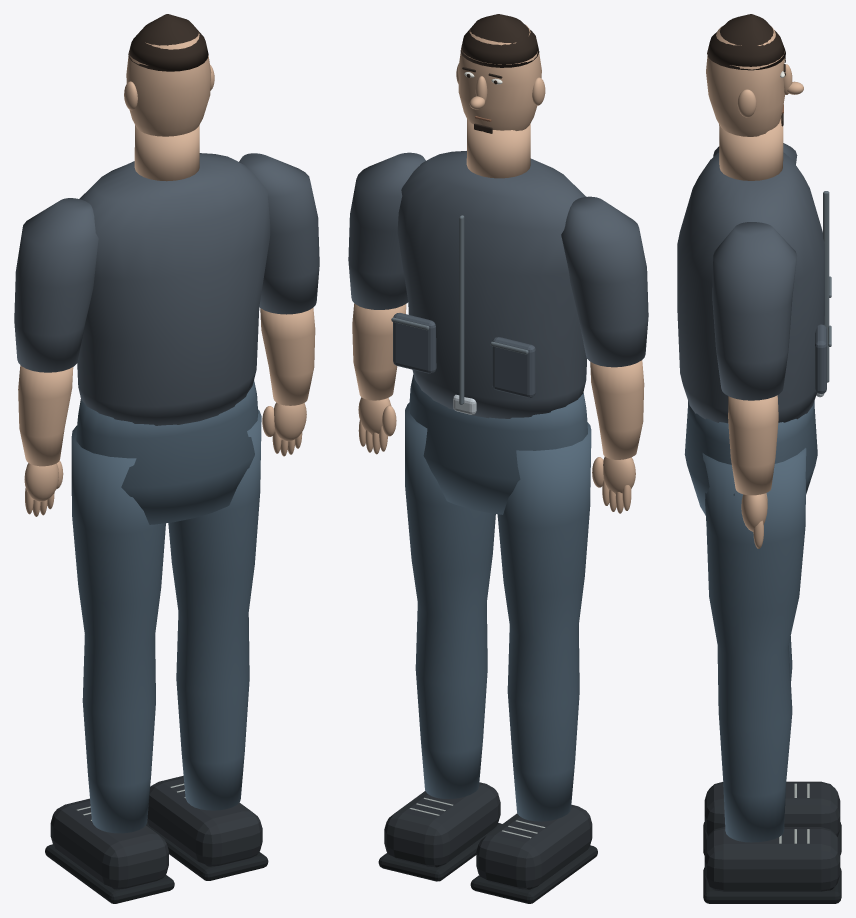
The model's file is Player.fbx.
3 renders of one model, left to right at view 1: azimuth 30°, elevation 25°; view 2: azimuth 150°, elevation 25°; view 3: azimuth 270°, elevation 25°, orthographic.
Visible parts, largest first — view 1: Body.015, Leg_L, Leg_R, Arm_L, Arm_R, Head; view 2: Body.015, Leg_L, Leg_R, Arm_L, Arm_R, Head; view 3: Leg_R, Body.015, Arm_R, Head, Leg_L.
Part boxes in pixels (x1,y1,x2,y2): Body.015: [76, 125, 270, 524]; Leg_L: [45, 425, 174, 903]; Leg_R: [146, 409, 268, 880]; Arm_L: [14, 198, 98, 516]; Arm_R: [239, 153, 319, 456]; Head: [124, 14, 214, 136]; Body.015: [391, 119, 587, 514]; Leg_L: [470, 422, 597, 903]; Leg_R: [378, 402, 501, 881]; Arm_L: [561, 196, 648, 513]; Arm_R: [348, 152, 425, 454]; Head: [456, 14, 545, 133]; Leg_R: [702, 448, 841, 903]; Body.015: [677, 118, 831, 514]; Arm_R: [712, 222, 796, 548]; Head: [706, 14, 803, 136]; Leg_L: [703, 636, 841, 855].
Size of the model in its own units: 0.644 by 1.78 by 0.311.
